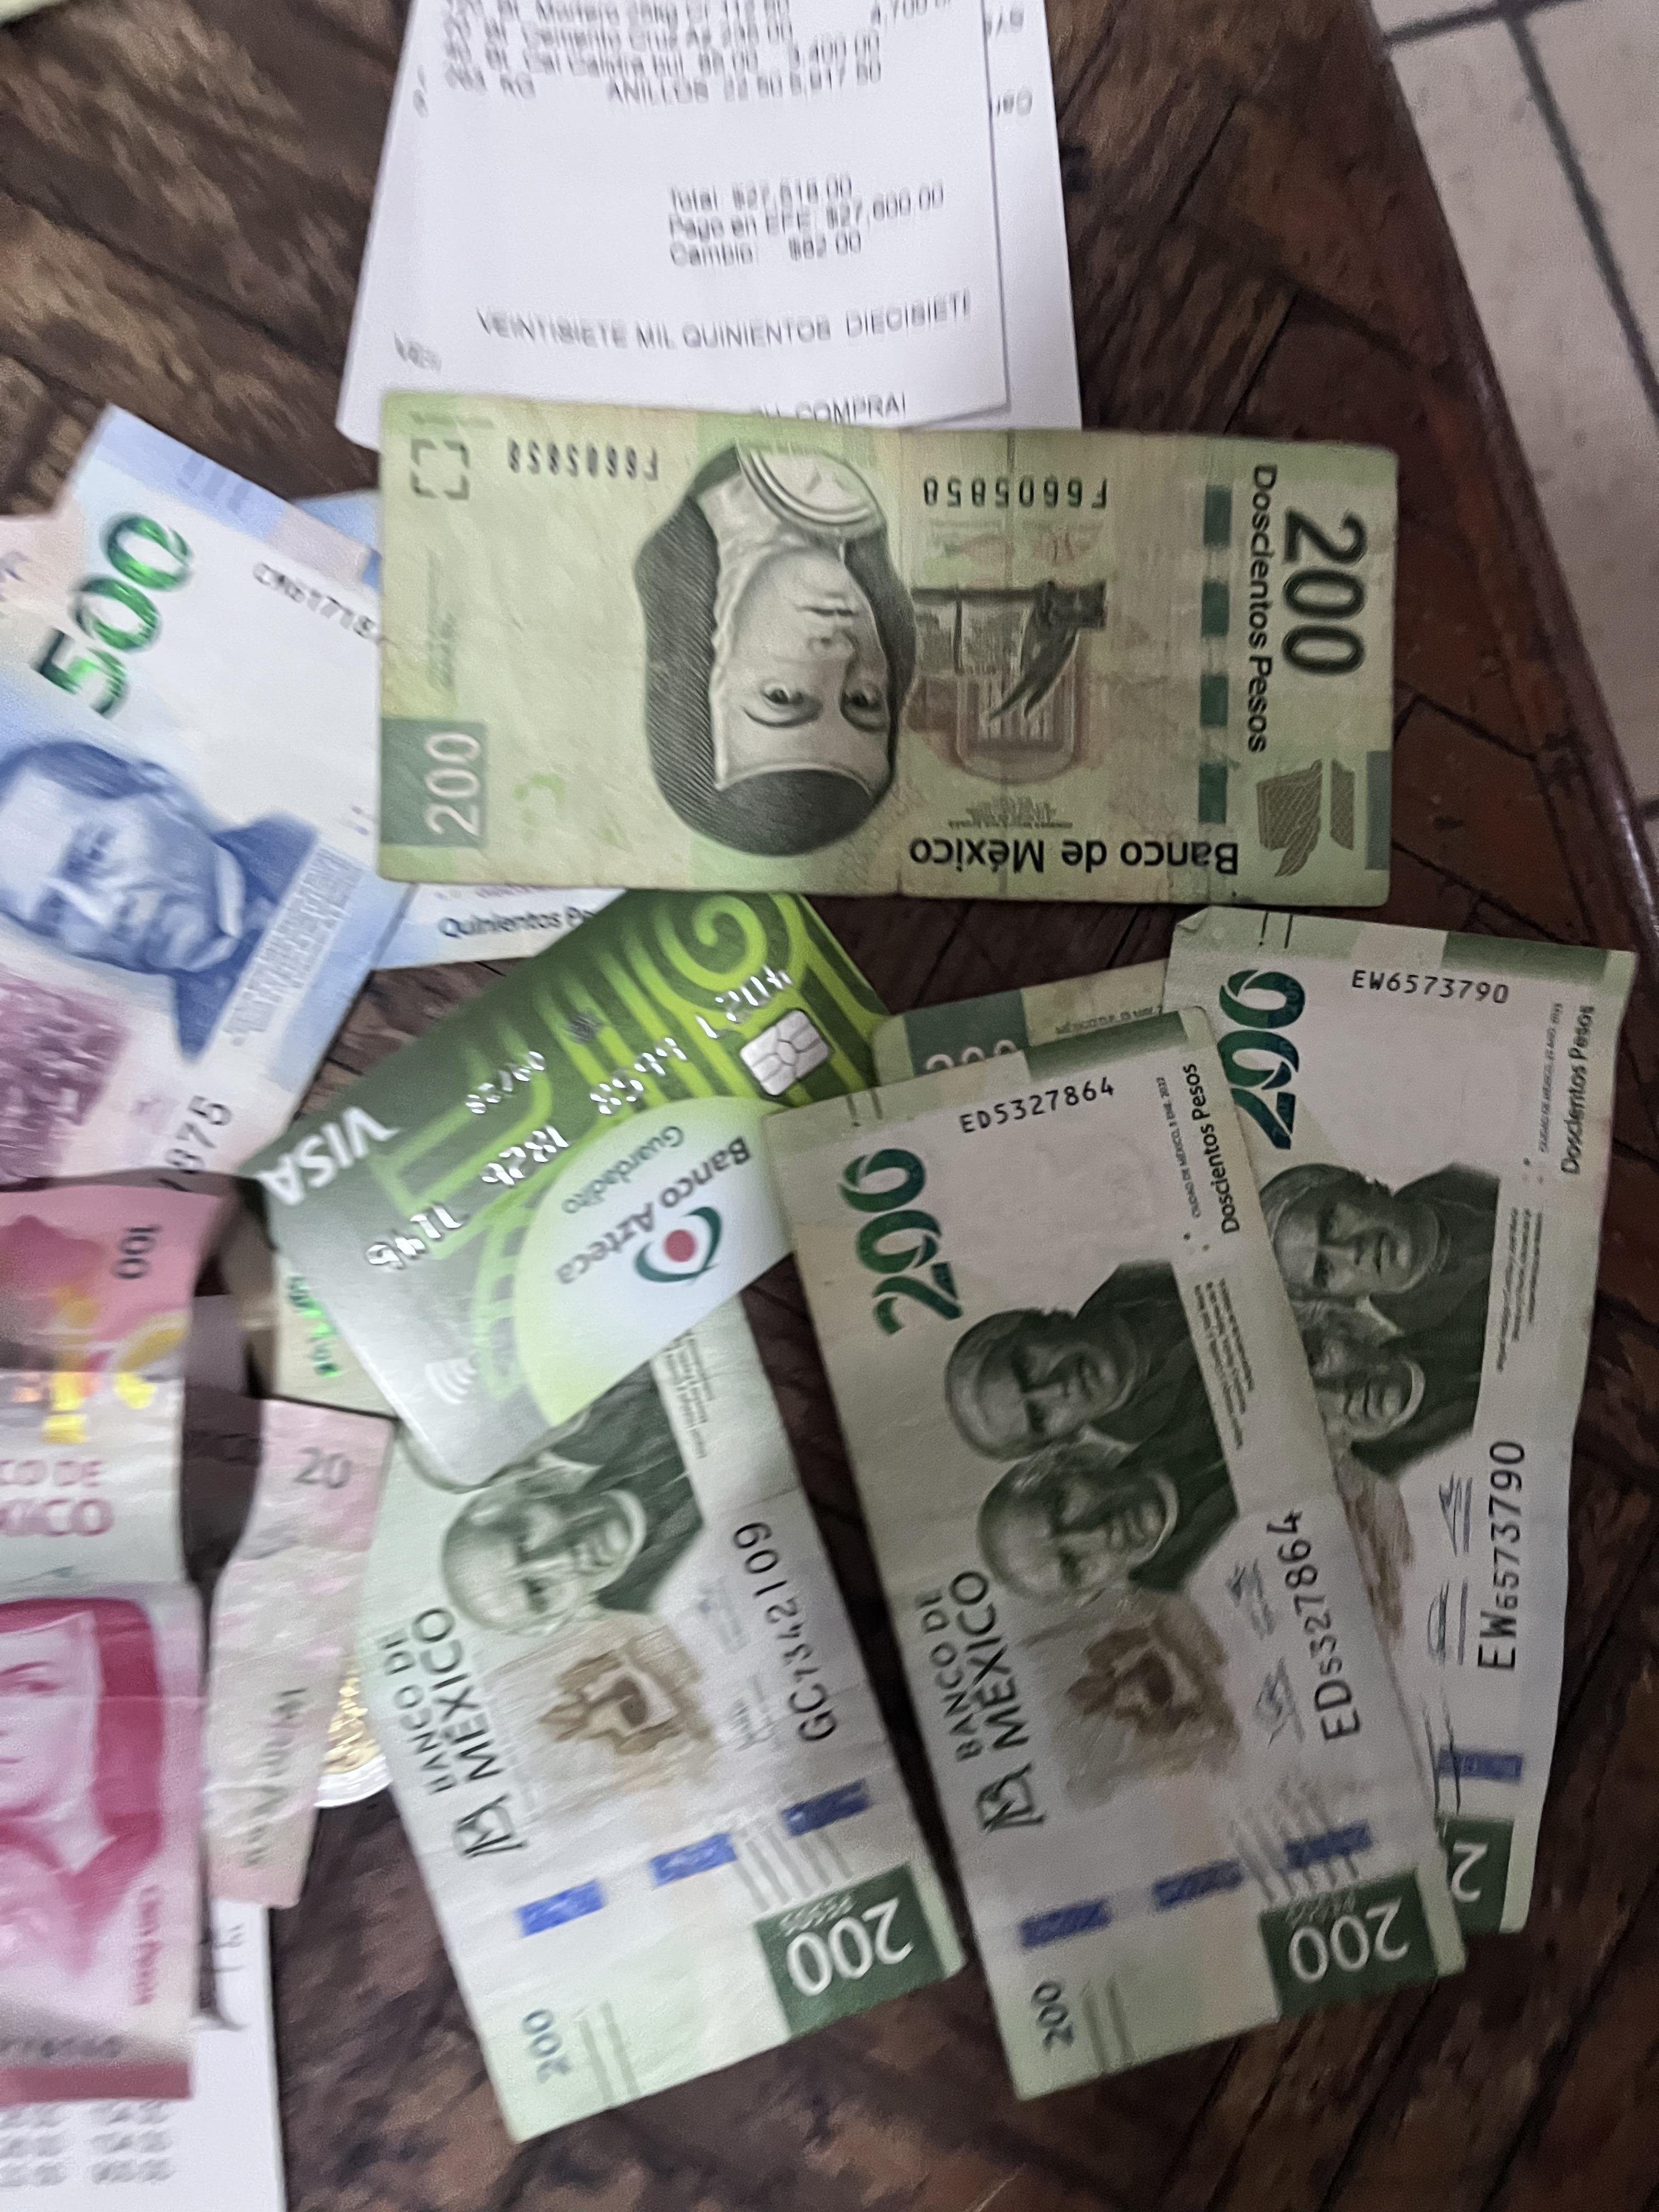100: (0, 1125, 268, 2139)
200: (202, 1106, 1006, 2090), (755, 1042, 1502, 2067), (368, 357, 1366, 954), (1147, 867, 1657, 1963)
500 nuevo: (0, 359, 511, 1383)
